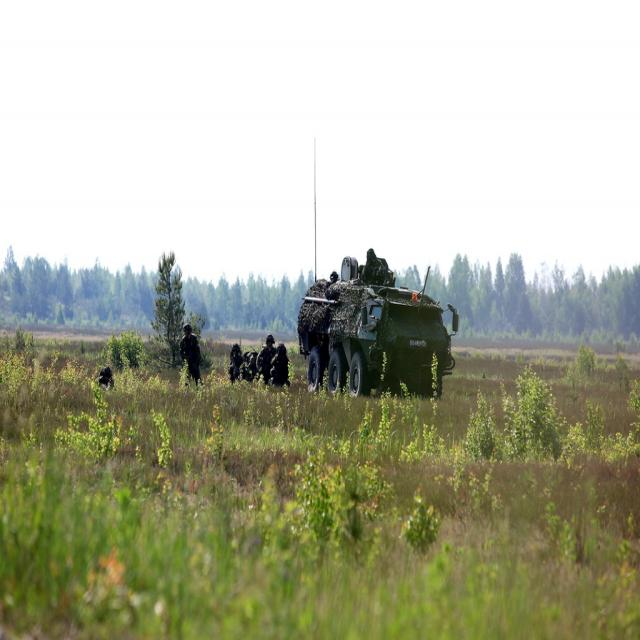tank: (295, 133, 457, 398)
